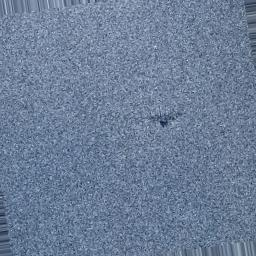Airplane: (143, 111, 186, 129)
